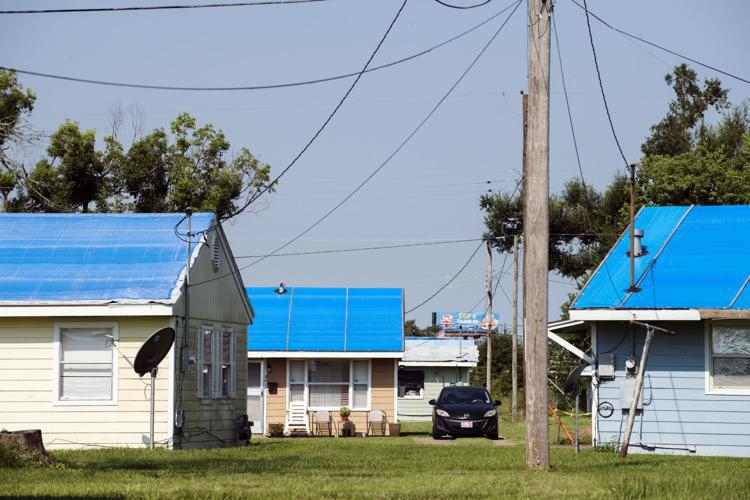minor: (5, 206, 260, 456), (579, 193, 750, 478), (242, 284, 418, 440)
